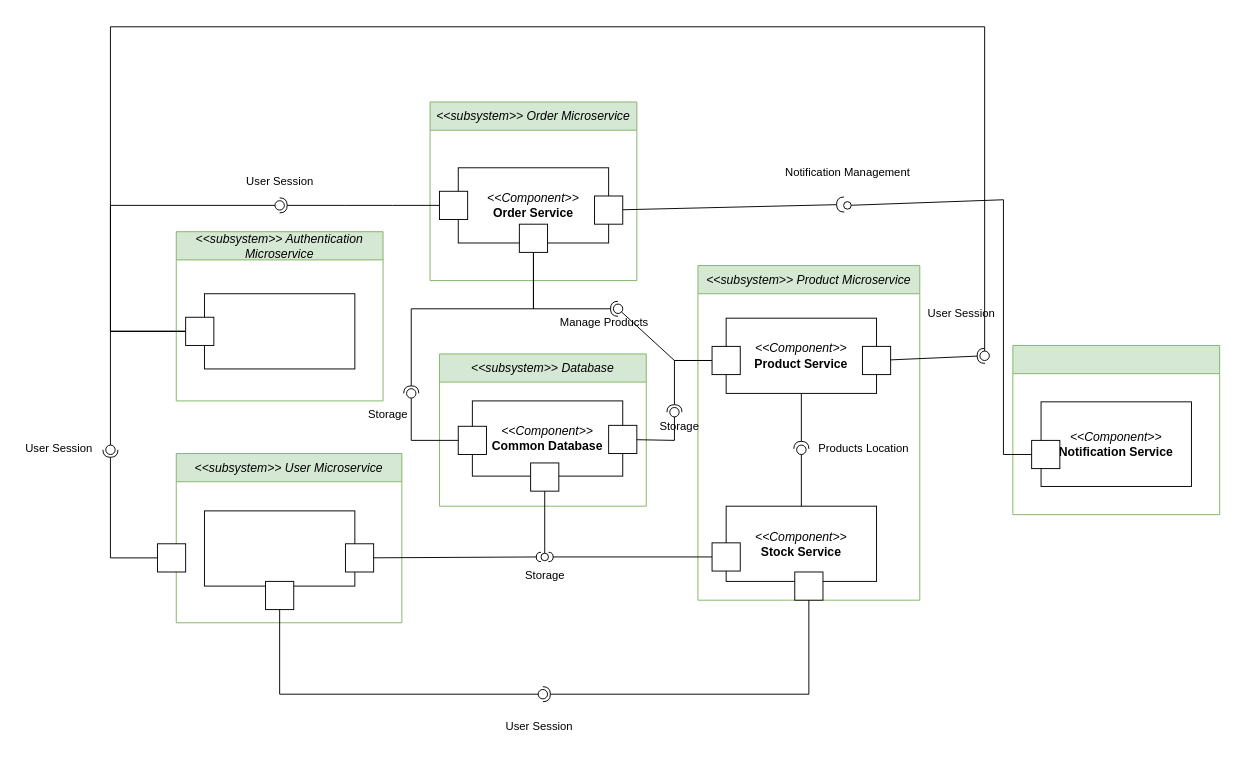
Some shapes in this 1236 by 758 pixel diagram are drawn without their labels. Here are the shapes that lost their labels. From the top down, the centre of each, then its label:
(x=279, y=331): <<Component>> Authentication
(x=1116, y=430): <<subsystem>> Notification Microservice
(x=279, y=548): <<Component>> User Service
